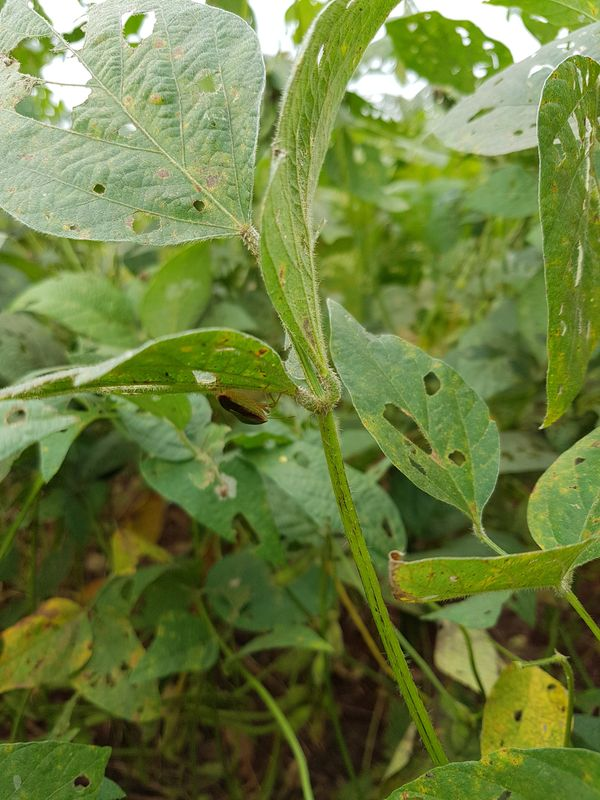Edessa_meditabunda: (207, 375, 286, 439)
